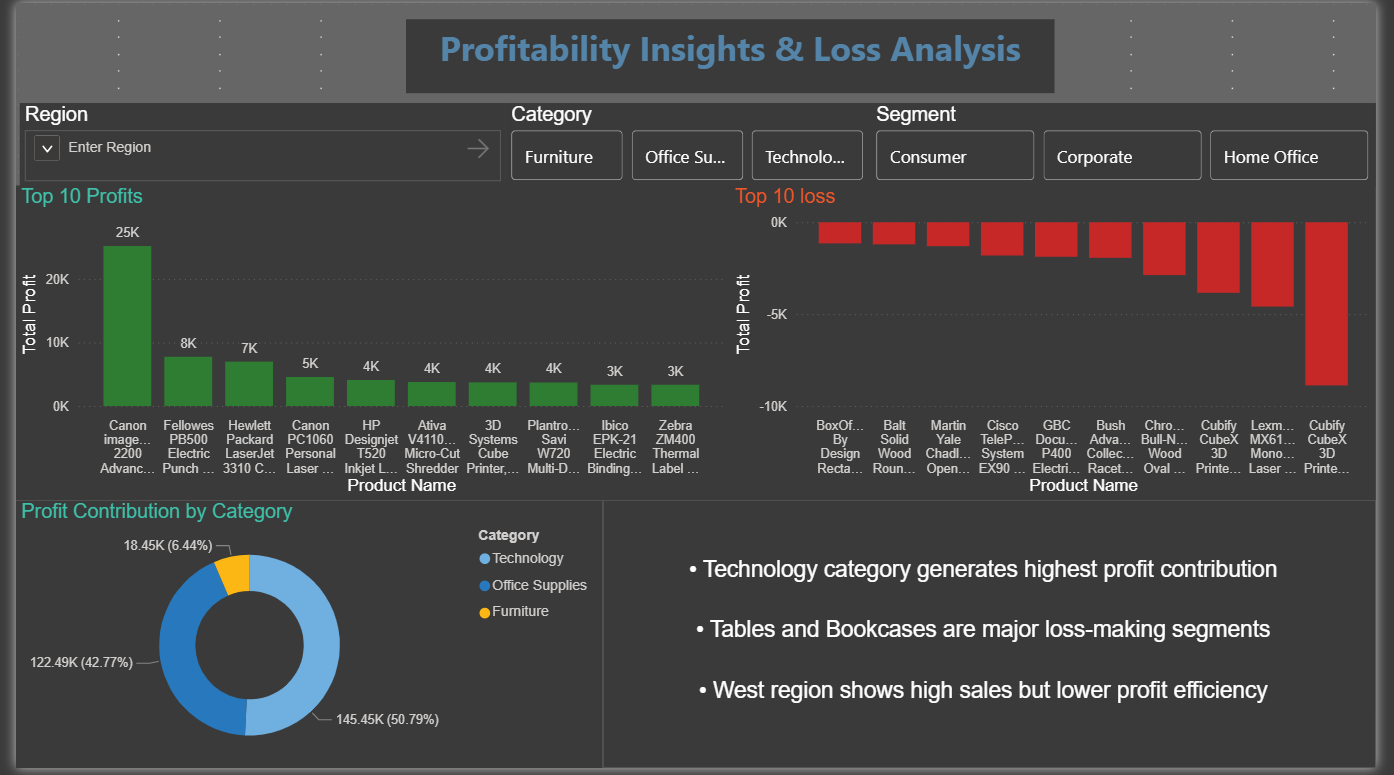

The page's visual inventory and layout, read from the dashboard file:
{"tool":"powerbi","page":{"name":"Page 3","canvas":[1280,720],"ordinal":2},"visuals":[{"type":"textbox","box":[367.4,15.4,610.4,69.9],"z":0},{"type":"clusteredColumnChart","title":"Top 10 Profits","fields":{"Category":["cleaned_superstore.Product Name"],"Y":["cleaned_superstore.Total Profit"]},"box":[0,171.9,672,296.3],"z":1},{"type":"columnChart","title":"Top 10 loss","fields":{"Category":["cleaned_superstore.Product Name"],"Y":["cleaned_superstore.Total Profit"]},"box":[672,171.9,608,296.3],"z":2},{"type":"donutChart","title":"Profit Contribution by Category","fields":{"Category":["cleaned_superstore.Category"],"Y":["cleaned_superstore.Total Profit"]},"box":[0,468,552,252],"z":4},{"type":"textbox","box":[553.5,468.1,726.5,251.3],"z":5},{"type":"textSlicer","fields":{"Values":["cleaned_superstore.Region"]},"box":[3.6,93.6,457.5,78.2],"z":6},{"type":"advancedSlicerVisual","fields":{"Values":["cleaned_superstore.Category"]},"box":[461,93.6,343.7,78.2],"z":7},{"type":"advancedSlicerVisual","fields":{"Values":["cleaned_superstore.Segment"]},"box":[804.7,93.6,475.3,78.2],"z":8}]}

Visuals, with their boxes in screenshot pixels (x1, y1, x2, y2), scaled from the page's 1280x720 canvas onto the 1394x775 screenshot:
textbox: Rect(400, 17, 1065, 92)
"Top 10 Profits" clusteredColumnChart: Rect(0, 185, 732, 504)
"Top 10 loss" columnChart: Rect(732, 185, 1393, 504)
"Profit Contribution by Category" donutChart: Rect(0, 504, 601, 774)
textbox: Rect(603, 504, 1393, 774)
textSlicer - cleaned_superstore.Region: Rect(4, 101, 502, 185)
advancedSlicerVisual - cleaned_superstore.Category: Rect(502, 101, 876, 185)
advancedSlicerVisual - cleaned_superstore.Segment: Rect(876, 101, 1393, 185)
